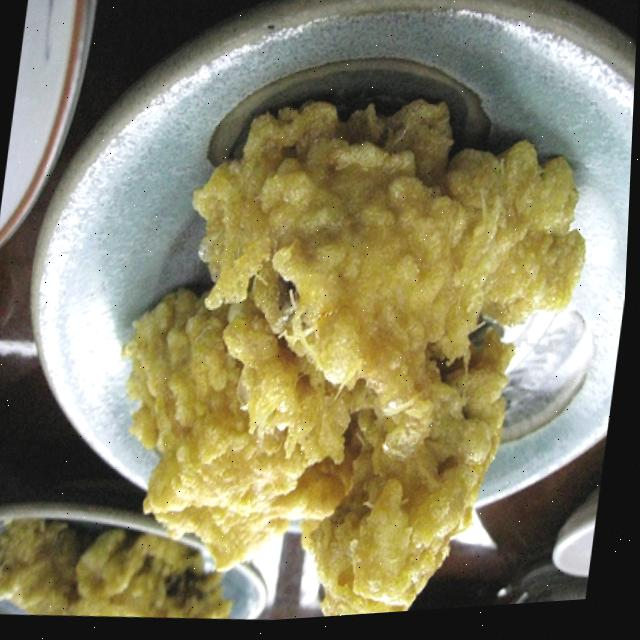鸡肉料理 含炸鸡: (36, 0, 639, 637)
